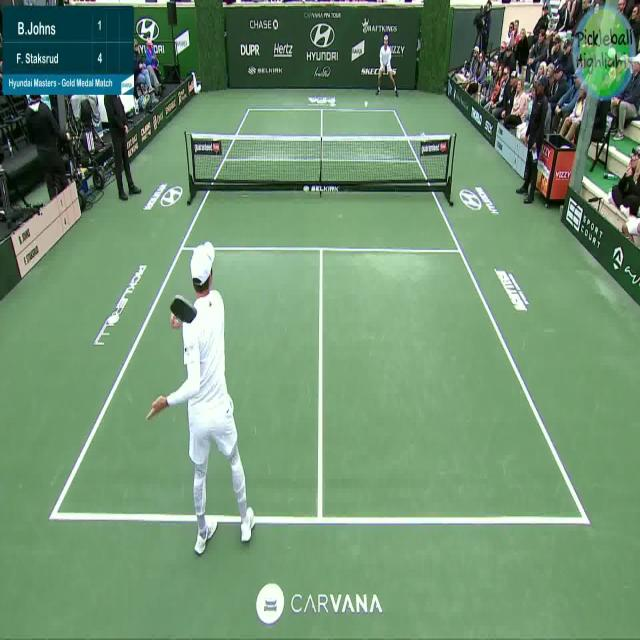Court: (53, 108, 588, 525)
ball: (362, 98, 374, 114)
